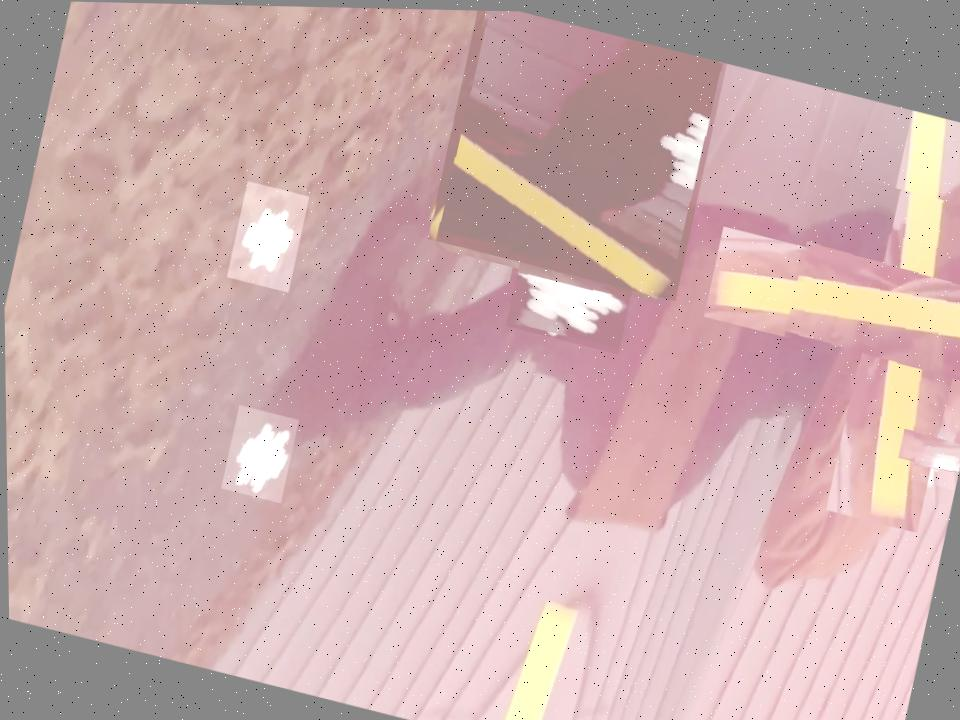dent: (503, 209, 643, 351), (224, 178, 309, 290), (218, 402, 298, 501), (908, 413, 960, 486)
scratch: (424, 7, 729, 299), (761, 163, 960, 459)
